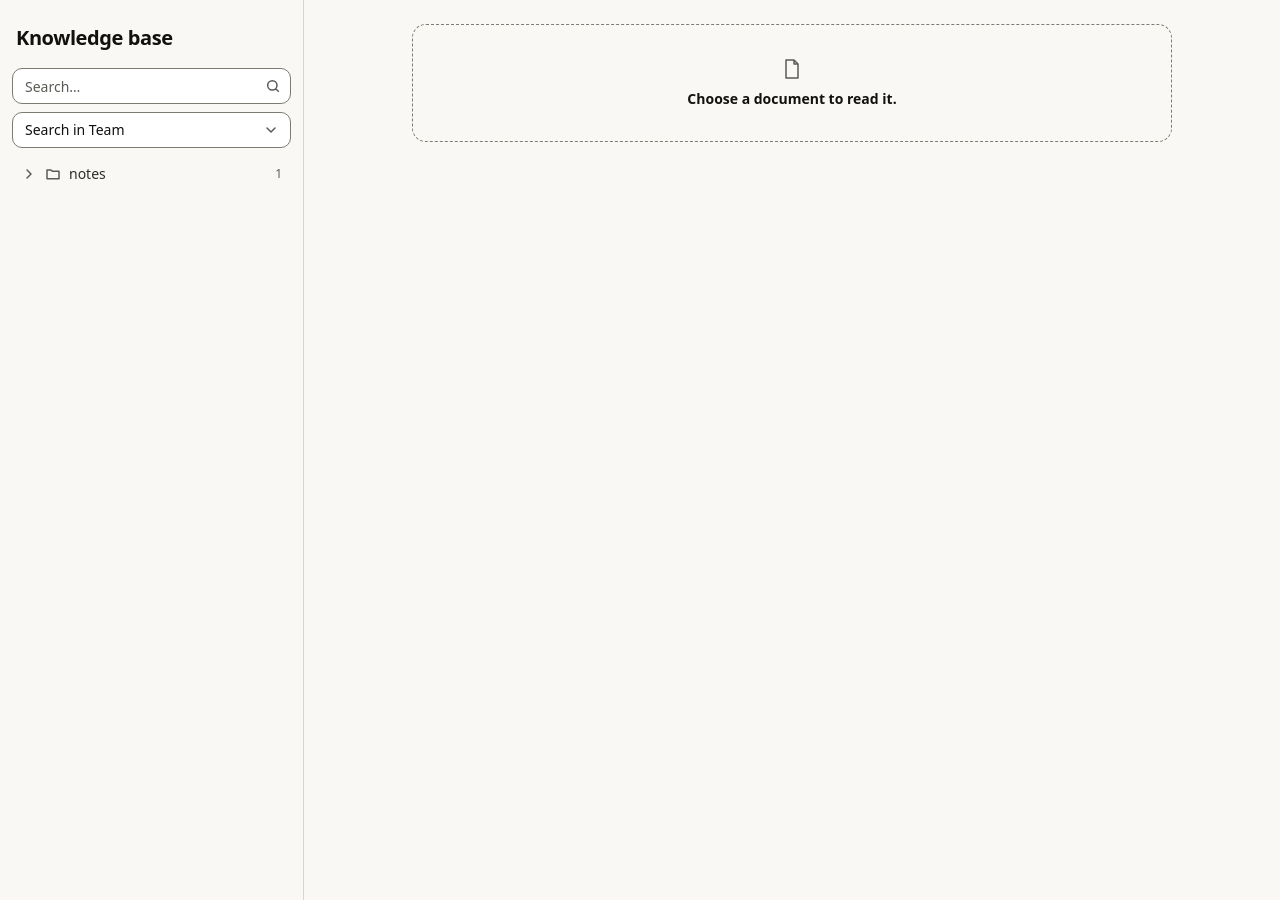
Test: a viewer reads documents and their history, but gets no way to change them
Click the button "notes 1" at (87, 174), box [12,160,291,188]
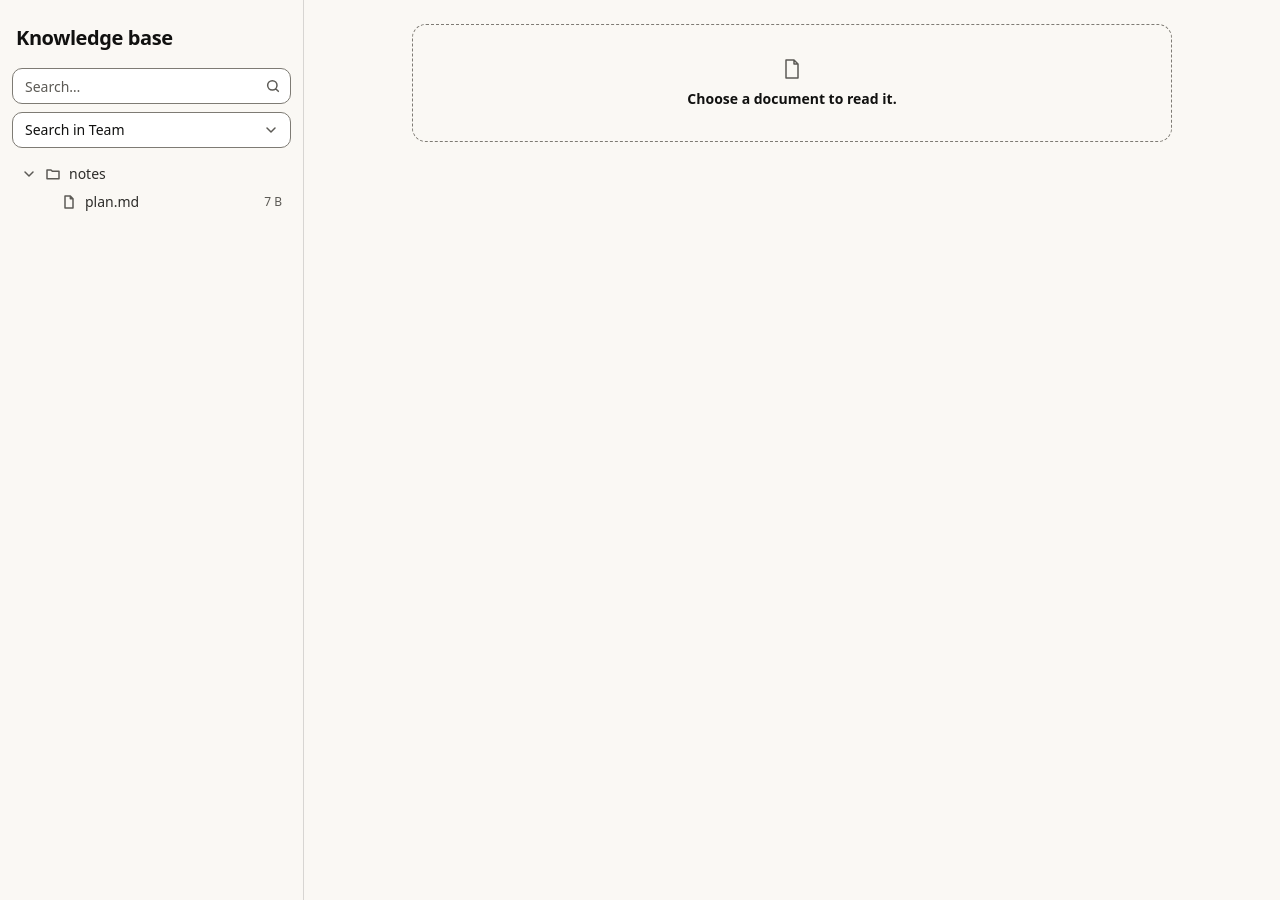
Click the button "plan.md 7 B" at (112, 202), box [12,188,291,216]
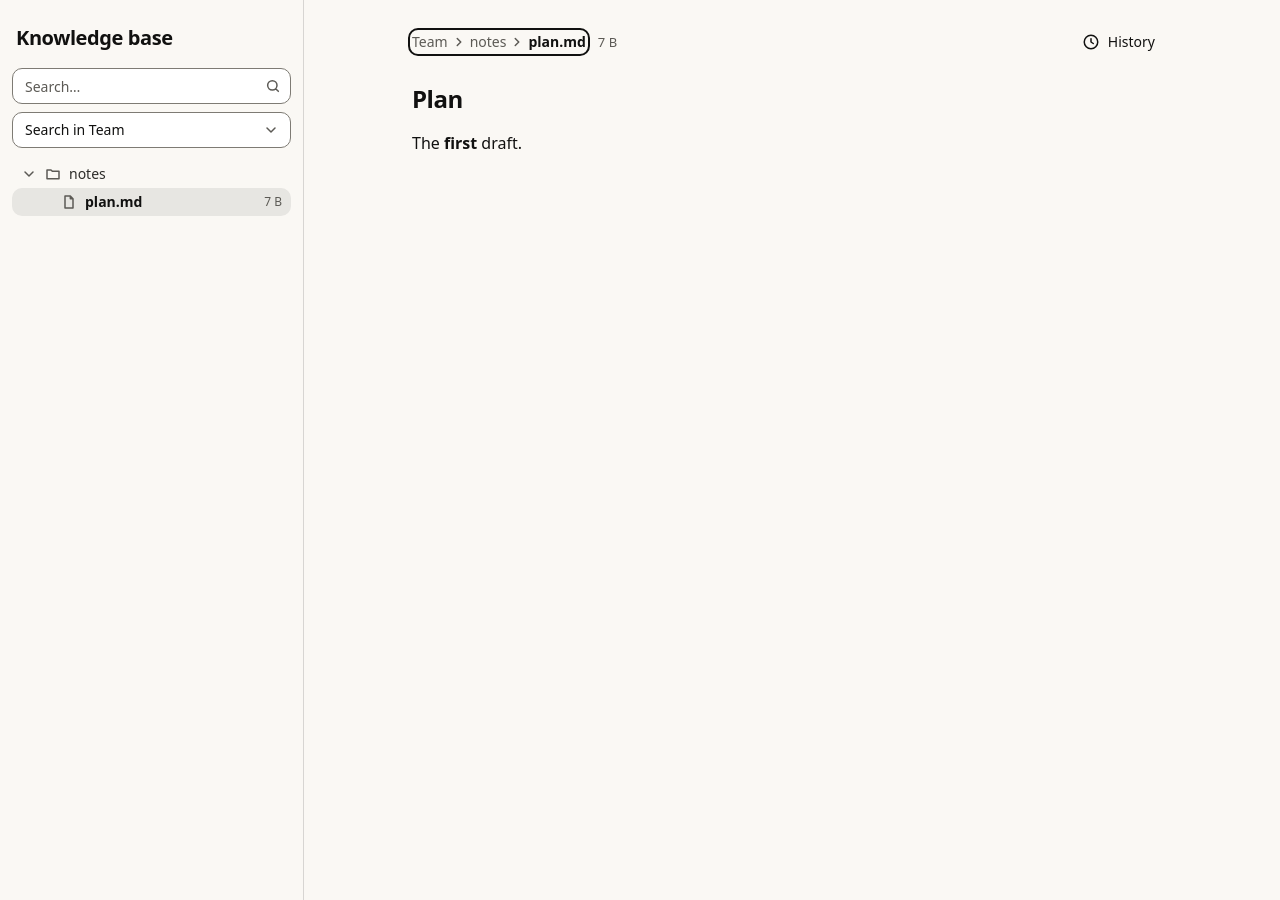
Click the button "History" at (1118, 42), box [1065,24,1172,60]
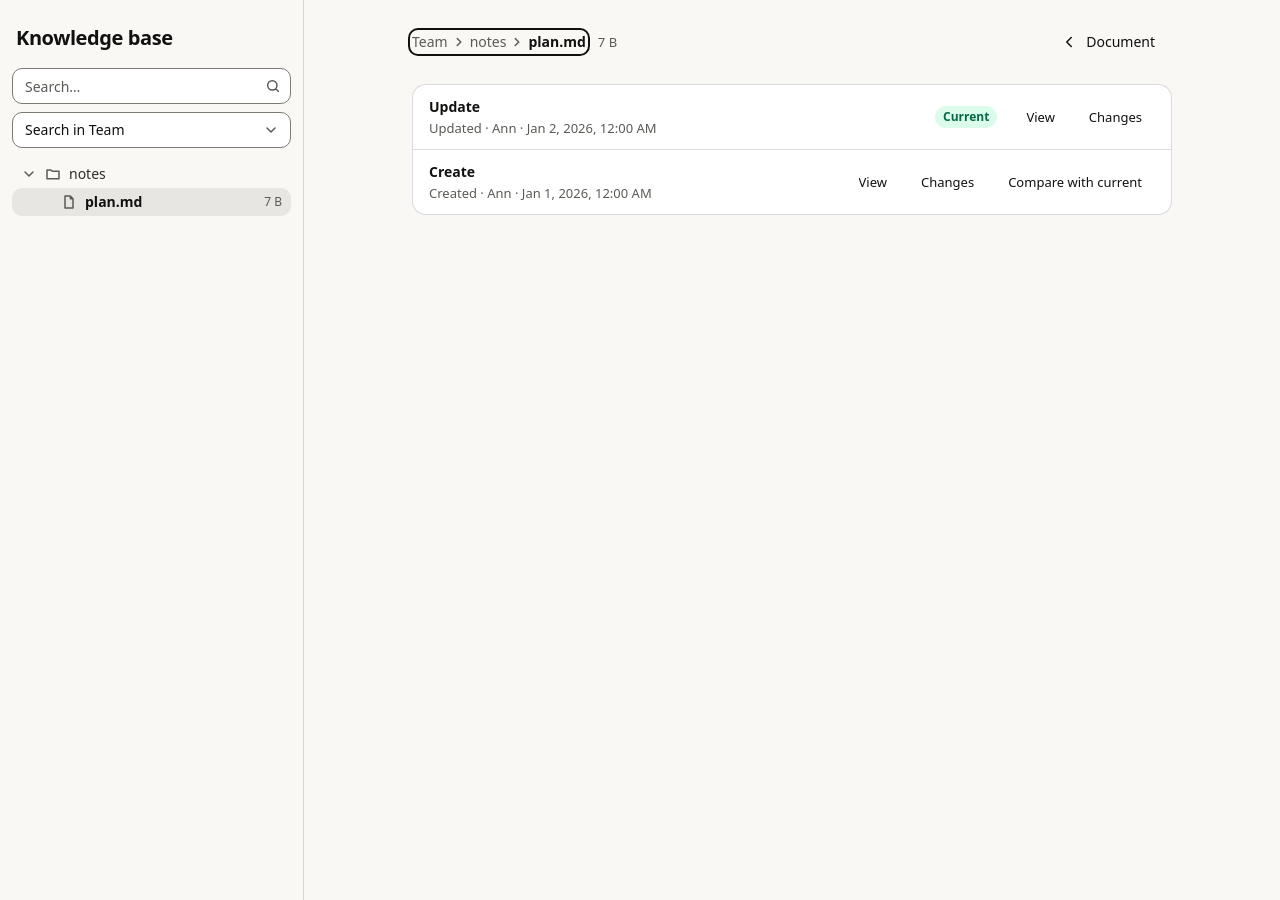
expect the text "Create" is shown: met, box [429,162,475,181]
expect the number of buttons "View" is 2: met, box [1013,103,1068,131]; [846,168,900,196]
